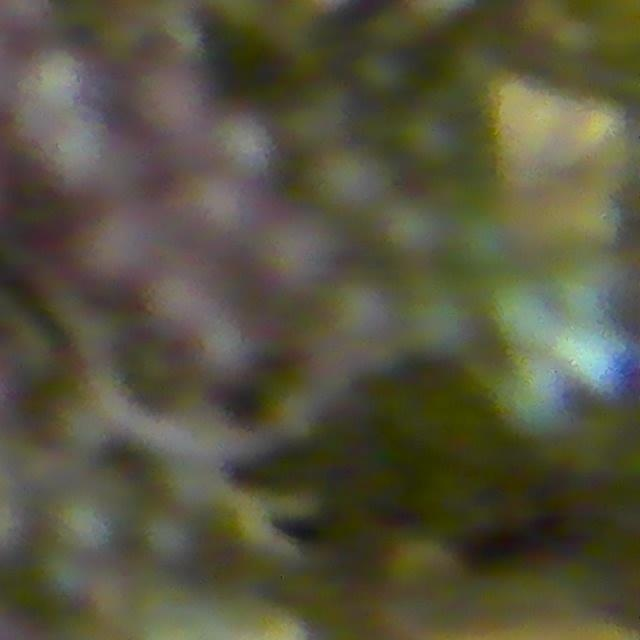SeaGrape: (64, 205, 153, 298), (249, 209, 332, 293), (128, 61, 202, 154), (492, 358, 573, 439), (481, 271, 561, 353), (548, 248, 629, 327), (401, 278, 479, 360), (310, 143, 393, 217), (168, 168, 242, 246), (183, 305, 257, 383), (383, 193, 451, 262)
